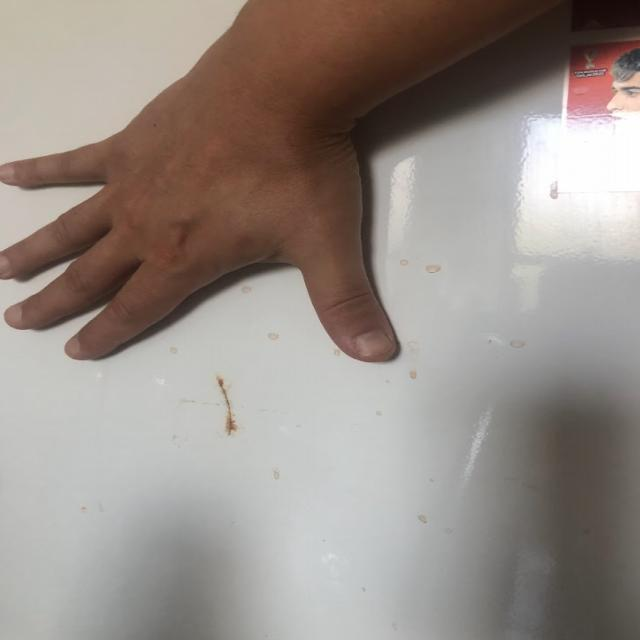Corrosion: (215, 374, 238, 435)
